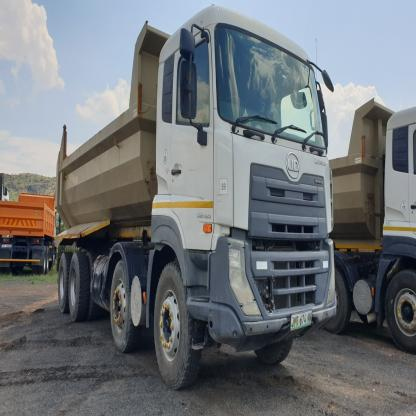dump_truck: (48, 9, 341, 397)
